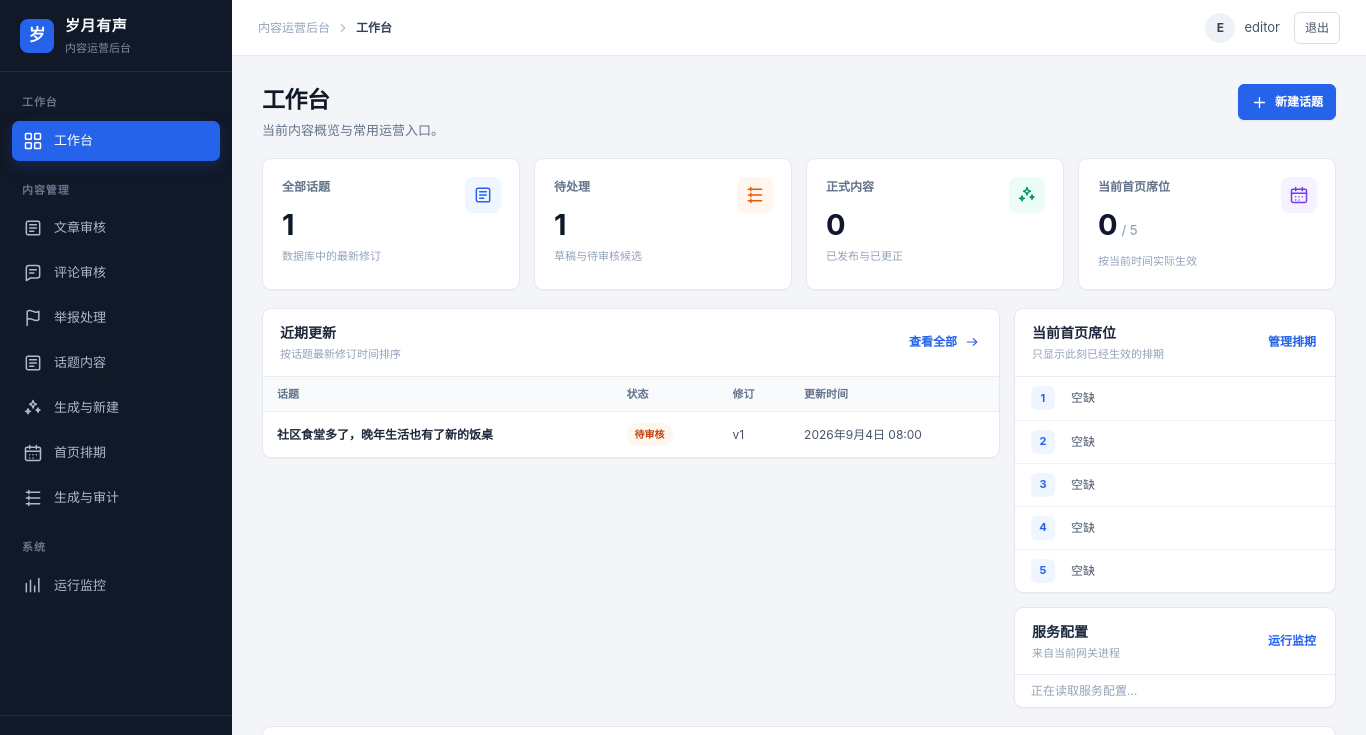
shows protected current-process metrics and capability status in the monitoring workspace
The width and height of the screenshot is (1366, 735).
Click the 1st button "运行监控" at (116, 586), box x1=12 y1=566 x2=220 y2=606
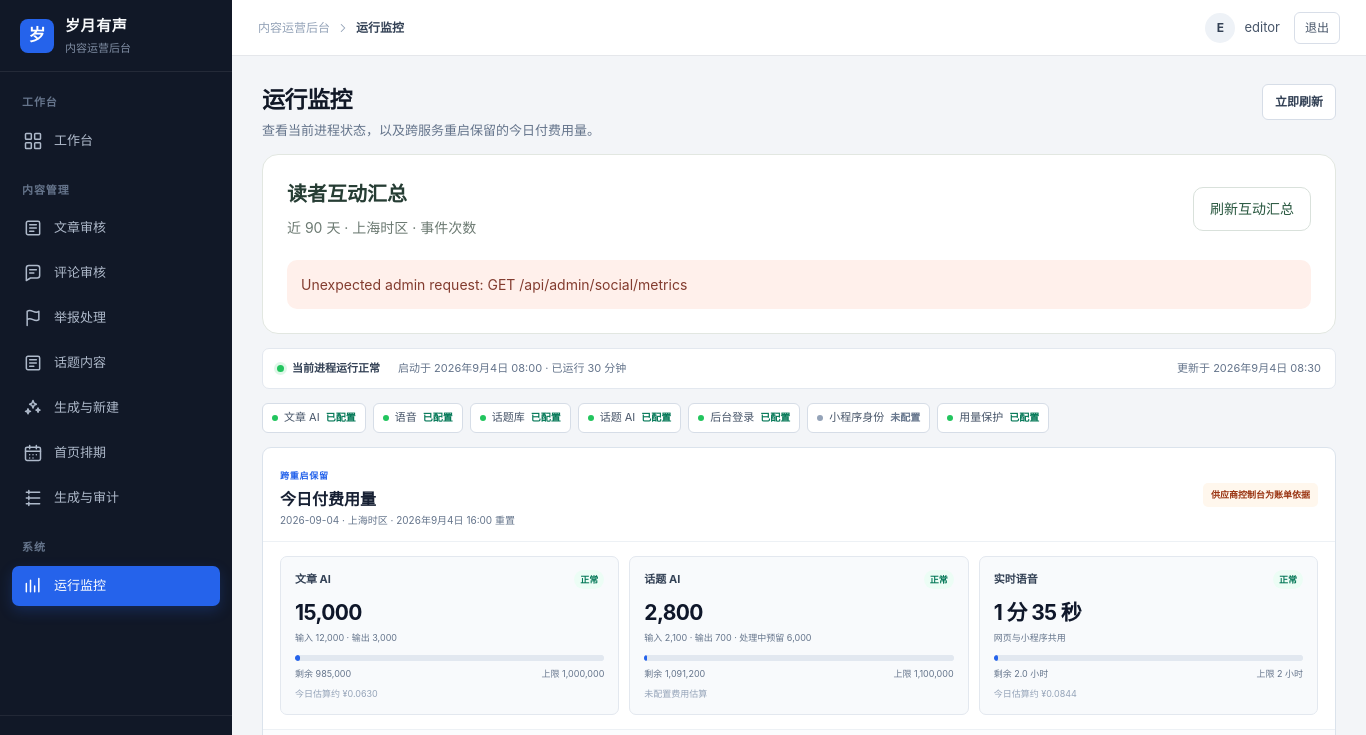
Now the heading "运行监控" is shown, box x1=262 y1=86 x2=352 y2=114
Now the heading "今日付费用量" is shown, box x1=280 y1=488 x2=376 y2=508
Now the text "15,000" is shown, box x1=295 y1=600 x2=362 y2=625
